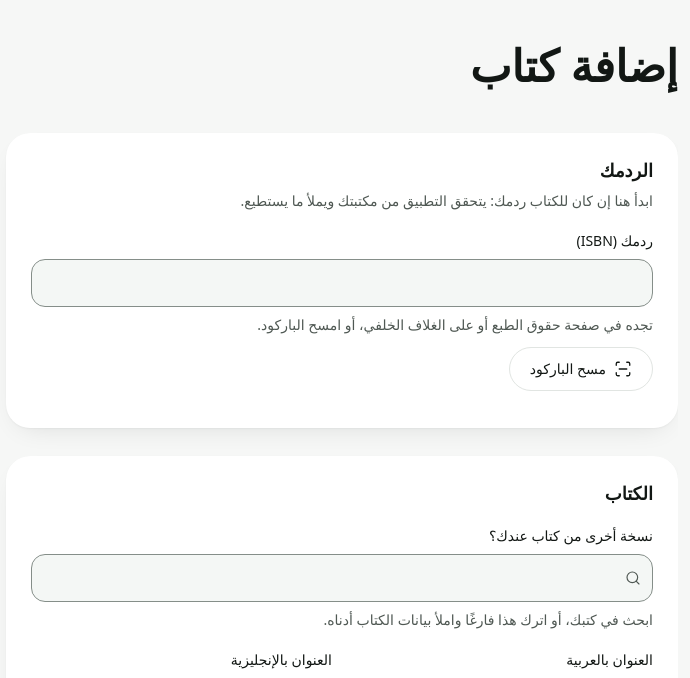
BookFormPage › Filling in from the ISBN › says it in Arabic, naming the country in Arabic
Type "9789933685027" into the field labelled "ردمك (ISBN)" at (342, 283), box x1=31 y1=259 x2=653 y2=307
(page scrolled)
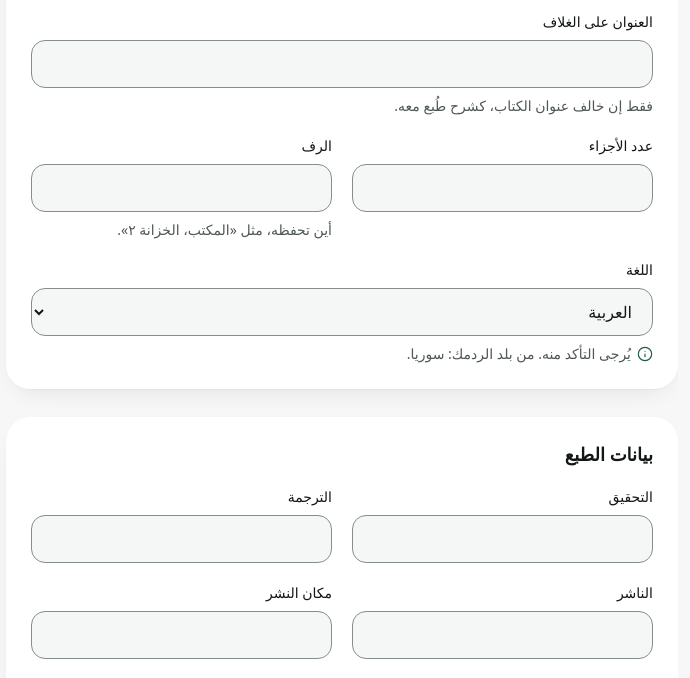
Now the text "يُرجى التأكد منه. من بلد الردمك: سوريا." is shown, box x1=407 y1=344 x2=631 y2=364
